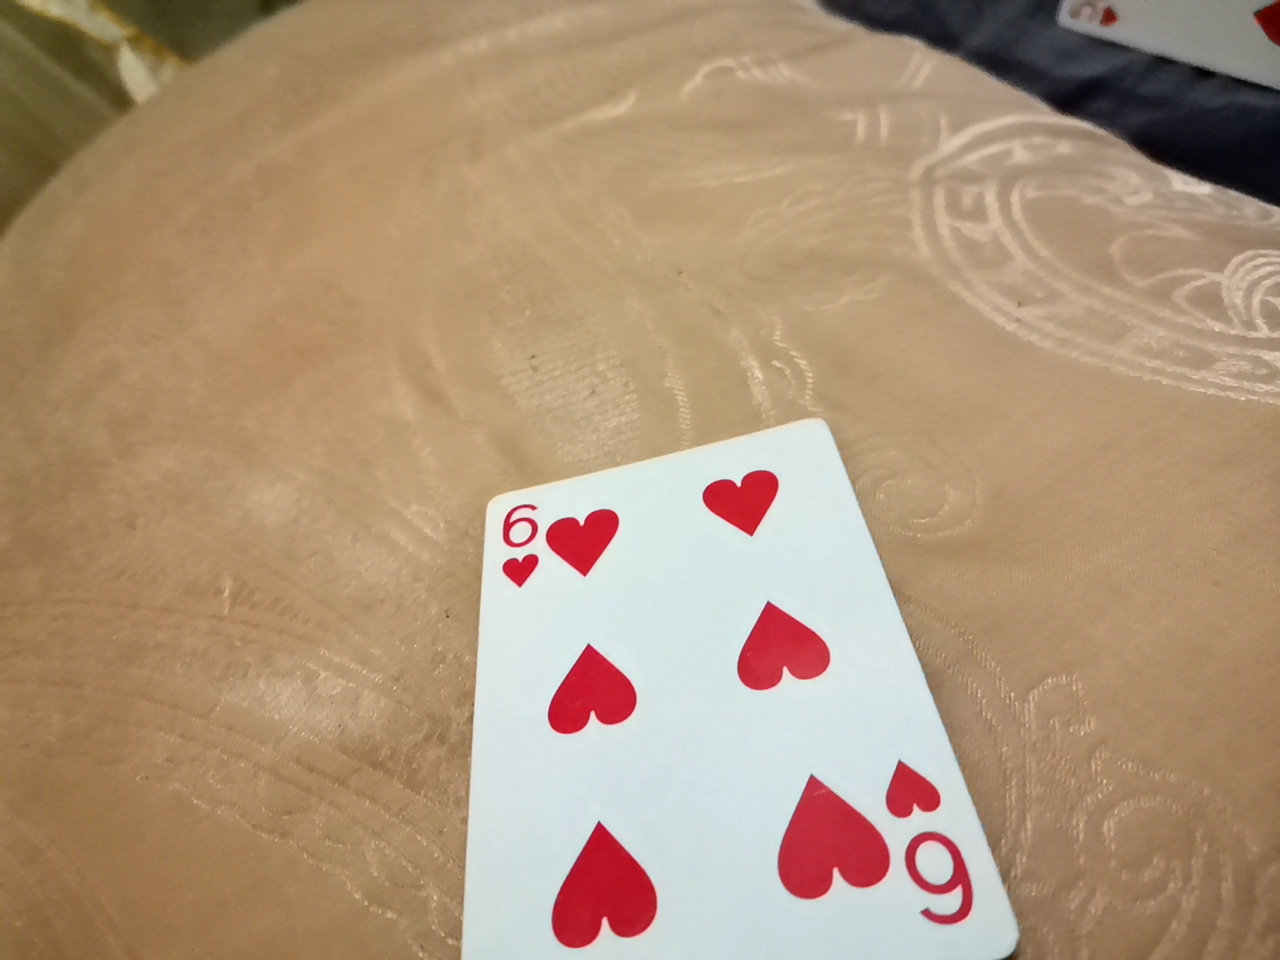hx 6: (459, 407, 1008, 960)
